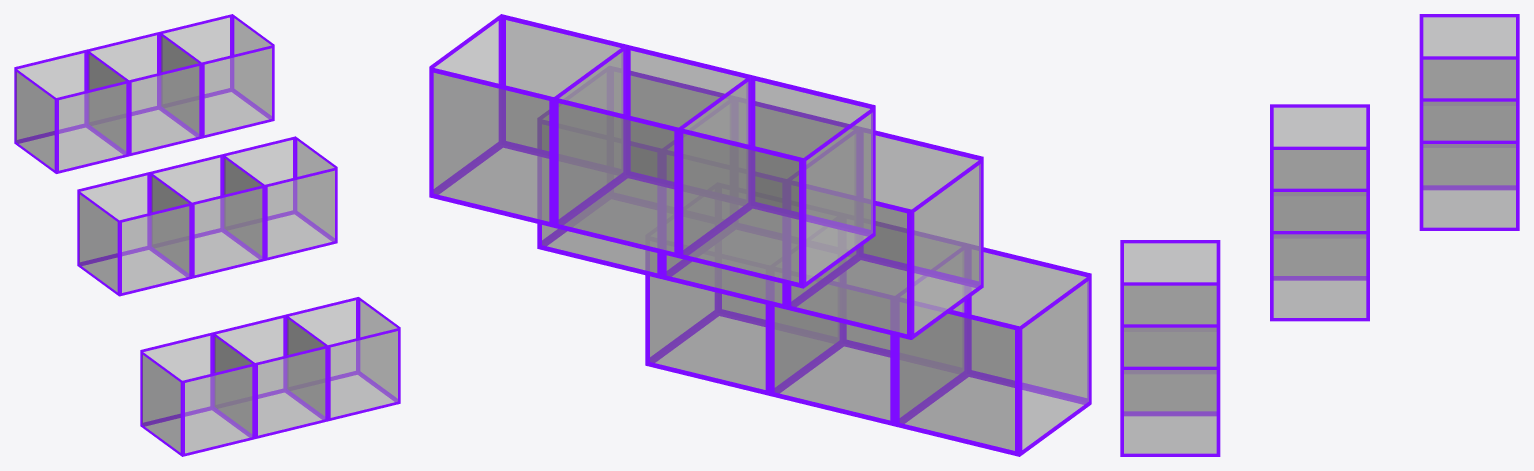
Rendered from (2)M GWall.fbx.
3 views of the same model, side by side, from view 1: azimuth 30°, elevation 25°; view 2: azimuth 150°, elevation 25°; view 3: azimuth 270°, elevation 25° (orthographic). The views are drawn at different scales.
Visible parts, largest first — view 1: Wall.009, Wall.001, Wall.006, Wall.008, Wall.010, Wall.005, Wall.002, Wall.011, Wall.007; view 2: Wall.009, Wall.011, Wall.010, Wall.001, Wall.006, Wall.002, Wall.005, Wall.007, Wall.008; view 3: Wall.011, Wall.005, Wall.008, Wall.010, Wall.007, Wall.002, Wall.001, Wall.006, Wall.009.
Part boxes in pixels (x1,y1,x2,y2): Wall.009: [14, 49, 128, 173]; Wall.001: [140, 332, 254, 456]; Wall.006: [77, 172, 191, 296]; Wall.008: [223, 136, 337, 260]; Wall.010: [87, 32, 201, 156]; Wall.005: [286, 297, 400, 421]; Wall.002: [213, 314, 327, 438]; Wall.011: [160, 14, 274, 138]; Wall.007: [150, 154, 264, 278]; Wall.009: [678, 75, 875, 288]; Wall.011: [429, 14, 625, 227]; Wall.010: [554, 44, 750, 257]; Wall.001: [895, 244, 1091, 456]; Wall.006: [787, 127, 983, 339]; Wall.002: [770, 221, 966, 426]; Wall.005: [645, 251, 839, 395]; Wall.007: [662, 101, 857, 309]; Wall.008: [537, 71, 724, 278]; Wall.011: [1419, 98, 1519, 230]; Wall.005: [1120, 324, 1220, 456]; Wall.008: [1270, 188, 1369, 321]; Wall.010: [1419, 56, 1519, 188]; Wall.007: [1270, 146, 1369, 278]; Wall.002: [1120, 282, 1220, 414]; Wall.001: [1120, 240, 1220, 331]; Wall.006: [1270, 104, 1369, 195]; Wall.009: [1419, 14, 1519, 98].
Size of the model in its own units: 600 by 700 by 800.
